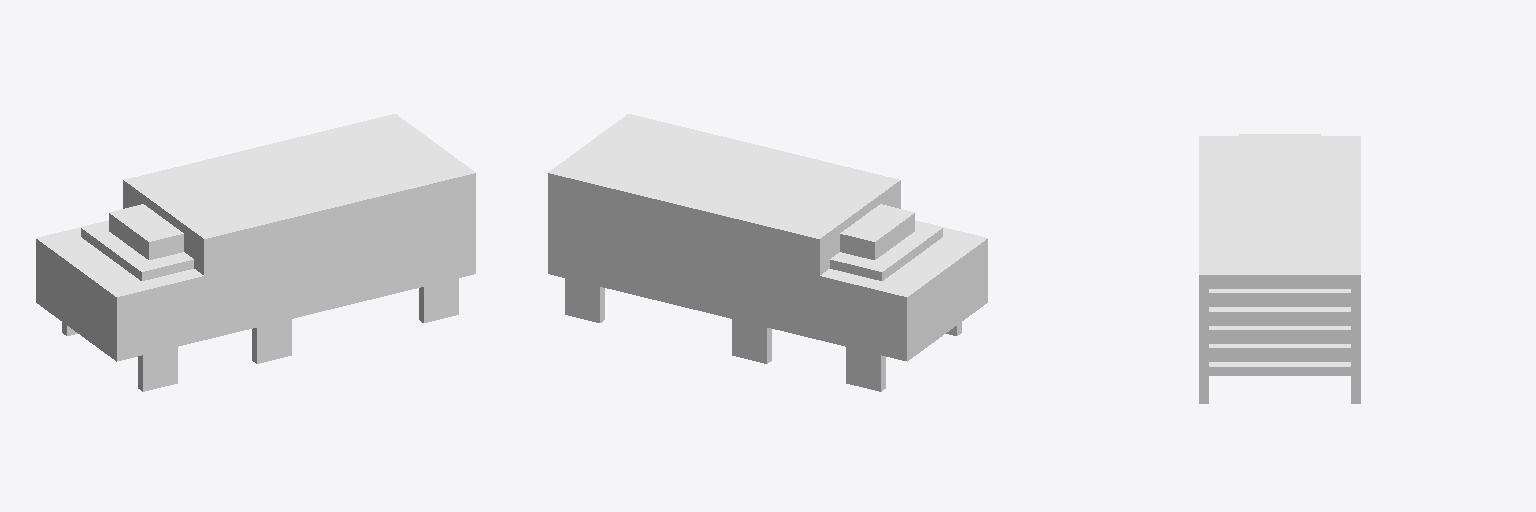
File: cargoTruck.obj
The picture shows the model from 3 angles: view 1: azimuth 30°, elevation 25°; view 2: azimuth 150°, elevation 25°; view 3: azimuth 270°, elevation 25°; orthographic projection.
Visible parts, largest first — view 1: cargoTruck; view 2: cargoTruck; view 3: cargoTruck.
Boxes of the visible parts, <box> form: cargoTruck: <box>36,114,475,391</box>; cargoTruck: <box>548,114,987,391</box>; cargoTruck: <box>1199,134,1360,403</box>.
Bounding box in the file's own units: 41 × 15 × 16.